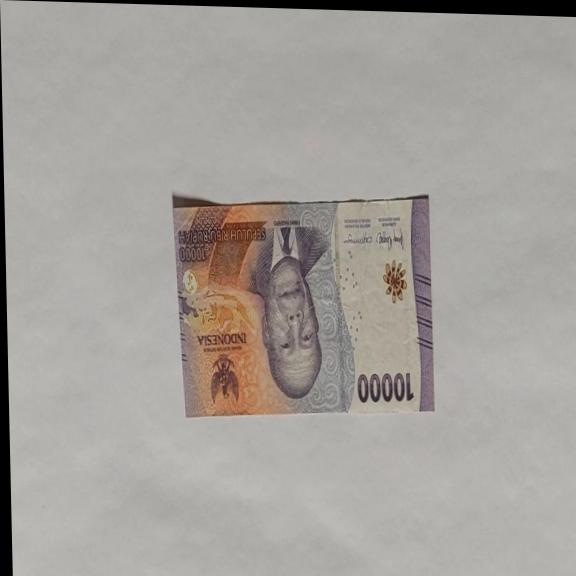Kertas: (172, 186, 436, 425), (356, 368, 415, 405)
